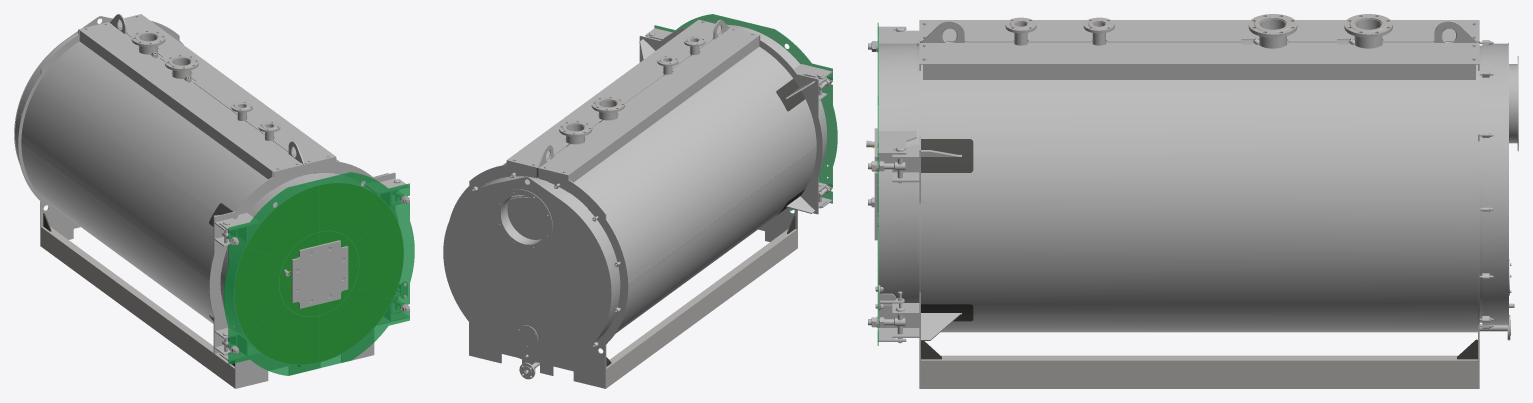
3 views of the same model, side by side, from view 1: azimuth 30°, elevation 25°; view 2: azimuth 150°, elevation 25°; view 3: azimuth 270°, elevation 25° (orthographic). The views are drawn at different scales.
Parts seen in each view (by area): view 1: PR.01.01.01.041 Обшивка корпуса:1, PR.05.01.01.090 Лист ФД:1, PR.08.01.01.003-01 Изоляция ФД:2, PR.05.01.01.105-01 Лист площадки:2, ГОСТ 8240-97 18P-3204:2, PR.05.01.01.105-00 Лист площадки:1, PR.05.01.01.088-01 Лист ФО:2, PR.01.01.01.008-02 Обечайка ФД и ЗК:1, PR.05.01.01.022-01 Плита горелки:1, PR.05.01.01.033-03 Ребро площадки:2, PR.08.01.01.004-01 Изоляция ФД:4, PR.05.01.01.089-01 Лист ЗО:2 (+6 smaller); view 2: PR.01.01.01.041 Обшивка корпуса:1, PR.05.01.01.091 Лист ЗК:1, PR.05.01.01.105-01 Лист площадки:2, ГОСТ 8240-97 18P-3204:2, PR.05.01.01.105-00 Лист площадки:1, PR.05.01.01.089-01 Лист ЗО:2, PR.05.01.01.088-01 Лист ФО:2, PR.05.01.01.090 Лист ФД:1, PR.05.01.01.033-03 Ребро площадки:2, PR.01.01.01.008-03 Обечайка ФД и ЗК:1, PR.05.01.01.089-00 Лист ЗО:1, PR.05.01.01.004-01 Дно заглушки:1 (+7 smaller); view 3: PR.01.01.01.041 Обшивка корпуса:1, ГОСТ 8240-97 18P-3204:1, PR.05.01.01.105-00 Лист площадки:1, PR.05.01.01.105-01 Лист площадки:2, PR.05.01.01.033-03 Ребро площадки:1, PR.01.01.01.008-02 Обечайка ФД и ЗК:1, PR.01.01.01.008-03 Обечайка ФД и ЗК:1, PR.01.01.01.004-03 Обечайка корпуса:1, PR.05.01.01.082-01 Накладка обшивки:1, SOLID (×2), PR.03.01.01.002-01 Труба входа и выхода:1 (×2), PR.05.01.01.018-00 Ребро с пазом ФД:1 (+8 smaller).
Part boxes in pixels (x1,y1,x2,y2): PR.01.01.01.041 Обшивка корпуса:1: [21, 28, 339, 323]; PR.05.01.01.090 Лист ФД:1: [223, 172, 414, 375]; PR.08.01.01.003-01 Изоляция ФД:2: [235, 183, 403, 364]; PR.05.01.01.105-01 Лист площадки:2: [78, 22, 302, 172]; ГОСТ 8240-97 18P-3204:2: [41, 226, 234, 388]; PR.05.01.01.105-00 Лист площадки:1: [118, 14, 335, 164]; PR.05.01.01.088-01 Лист ФО:2: [209, 164, 304, 388]; PR.01.01.01.008-02 Обечайка ФД и ЗК:1: [221, 173, 403, 364]; PR.05.01.01.022-01 Плита горелки:1: [292, 240, 348, 308]; PR.05.01.01.033-03 Ребро площадки:2: [79, 31, 272, 179]; PR.08.01.01.004-01 Изоляция ФД:4: [279, 231, 358, 316]; PR.05.01.01.089-01 Лист ЗО:2: [17, 22, 109, 246]; PR.01.01.01.041 Обшивка корпуса:1: [503, 33, 816, 333]; PR.05.01.01.091 Лист ЗК:1: [443, 177, 611, 363]; PR.05.01.01.105-01 Лист площадки:2: [539, 27, 759, 175]; ГОСТ 8240-97 18P-3204:2: [606, 229, 797, 388]; PR.05.01.01.105-00 Лист площадки:1: [506, 19, 720, 167]; PR.05.01.01.089-01 Лист ЗО:2: [538, 168, 628, 388]; PR.05.01.01.088-01 Лист ФО:2: [729, 27, 823, 248]; PR.05.01.01.090 Лист ФД:1: [654, 14, 837, 210]; PR.05.01.01.033-03 Ребро площадки:2: [569, 36, 759, 182]; PR.01.01.01.008-03 Обечайка ФД и ЗК:1: [478, 176, 620, 344]; PR.05.01.01.089-00 Лист ЗО:1: [449, 161, 537, 370]; PR.05.01.01.004-01 Дно заглушки:1: [507, 197, 547, 239]; PR.01.01.01.041 Обшивка корпуса:1: [921, 40, 1477, 332]; ГОСТ 8240-97 18P-3204:1: [921, 355, 1477, 388]; PR.05.01.01.105-00 Лист площадки:1: [919, 42, 1479, 64]; PR.05.01.01.105-01 Лист площадки:2: [919, 20, 1479, 42]; PR.05.01.01.033-03 Ребро площадки:1: [923, 64, 1475, 79]; PR.01.01.01.008-02 Обечайка ФД и ЗК:1: [878, 43, 916, 304]; PR.01.01.01.008-03 Обечайка ФД и ЗК:1: [1482, 43, 1508, 325]; PR.01.01.01.004-03 Обечайка корпуса:1: [916, 45, 1482, 322]; PR.05.01.01.082-01 Накладка обшивки:1: [921, 139, 973, 172]; SOLID (×2): [1248, 14, 1392, 37]; PR.03.01.01.002-01 Труба входа и выхода:1 (×2): [1259, 18, 1382, 48]; PR.05.01.01.018-00 Ребро с пазом ФД:1: [878, 131, 916, 154].
Bounding box in the file's own units: 1.82 × 2.03 × 3.75.
